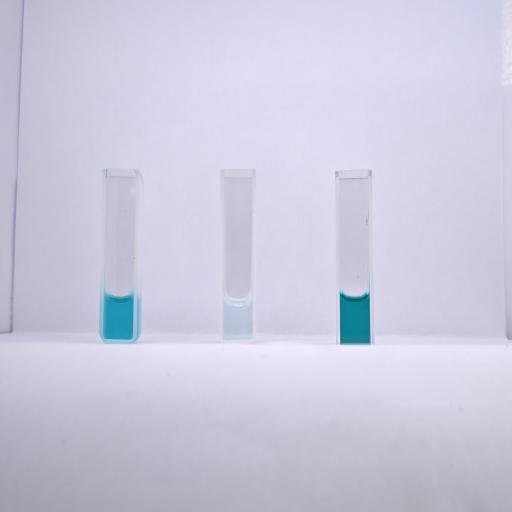cuvette: (97, 167, 142, 345), (333, 167, 377, 347), (218, 166, 258, 347)
liquid: (340, 292, 370, 342), (103, 291, 133, 339), (224, 297, 252, 340)
